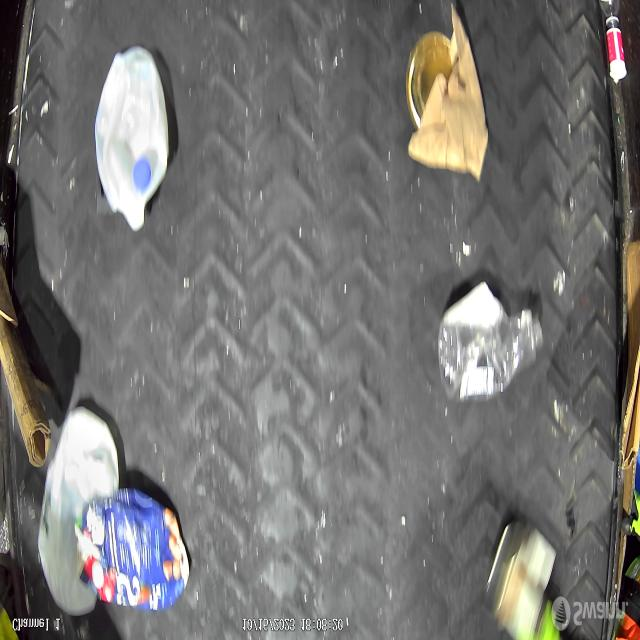milk_jug: (38, 403, 118, 617), (95, 48, 169, 234)
non_white_jug: (81, 494, 187, 606)
plastic_bottle: (442, 294, 546, 406)
